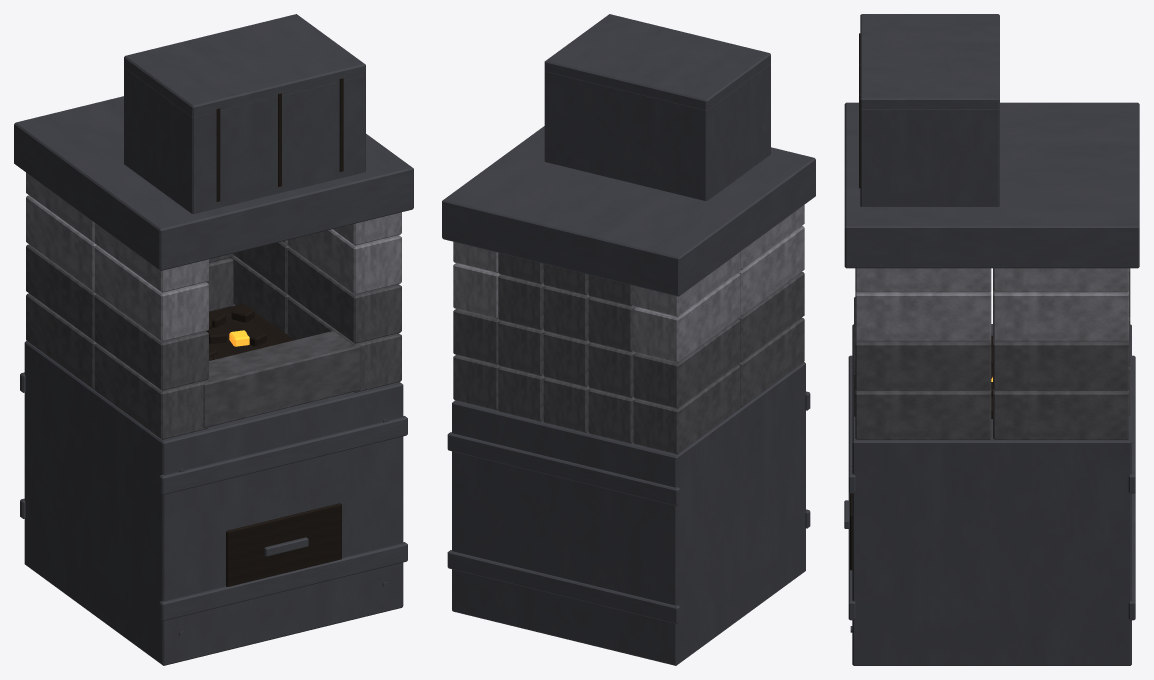
The model's file is forge_improved.glb.
The picture shows the model from 3 angles, left to right: view 1: azimuth 30°, elevation 25°; view 2: azimuth 150°, elevation 25°; view 3: azimuth 270°, elevation 25°; orthographic projection. The views are drawn at different scales.
Parts seen in each view (by area): view 1: forge_improved; view 2: forge_improved; view 3: forge_improved.
Boxes of the visible parts, x1=… form: forge_improved: x1=14, y1=14, x2=413, y2=665; forge_improved: x1=442, y1=14, x2=815, y2=665; forge_improved: x1=844, y1=14, x2=1139, y2=665.
Size of the model in its own units: 0.95 by 1.96 by 0.951.
Materials: 5 (4 with a texture image).
